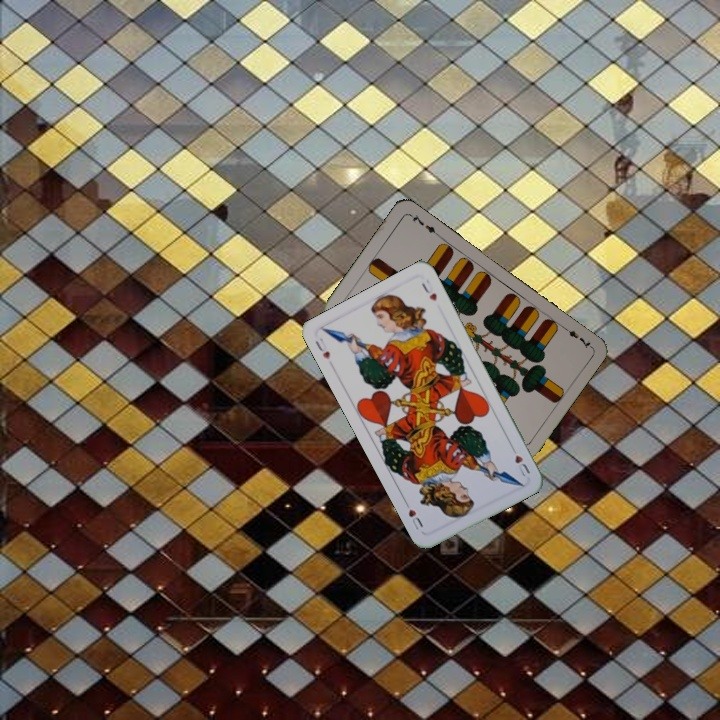E7: (558, 322, 594, 351)
HU: (507, 441, 533, 480), (311, 334, 332, 362)
